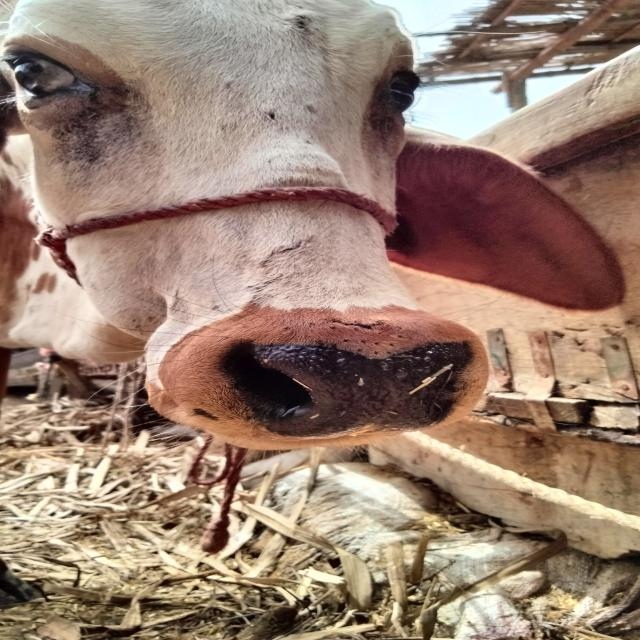muzzles: (190, 315, 493, 436)
